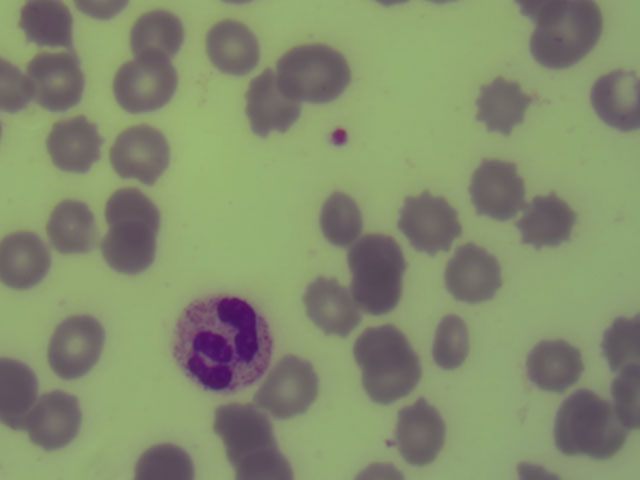Platelets: (327, 127, 348, 144)
RBC: (524, 4, 604, 70), (281, 38, 351, 98), (45, 305, 101, 375), (1, 352, 54, 423), (113, 53, 179, 108), (114, 126, 171, 187), (421, 313, 478, 374), (213, 400, 270, 461), (389, 400, 446, 461), (259, 354, 316, 415), (25, 391, 82, 452), (103, 178, 160, 239), (97, 220, 154, 281), (42, 199, 99, 260), (46, 104, 103, 165), (25, 49, 82, 110), (299, 274, 356, 335), (205, 22, 262, 83), (247, 69, 304, 130), (448, 245, 505, 306), (467, 159, 524, 220), (402, 189, 459, 250), (310, 192, 367, 253), (522, 192, 579, 253), (472, 77, 529, 138), (583, 71, 640, 132), (556, 391, 613, 452), (350, 258, 407, 319), (353, 310, 410, 371), (366, 349, 423, 410), (525, 333, 582, 394), (1, 229, 52, 295), (124, 7, 181, 58), (350, 228, 407, 273), (22, 1, 76, 47), (600, 318, 640, 380), (139, 441, 197, 480), (233, 449, 298, 480), (608, 372, 640, 429), (1, 55, 29, 118), (509, 453, 567, 480), (525, 1, 565, 20)
WBC: (171, 294, 275, 390)
